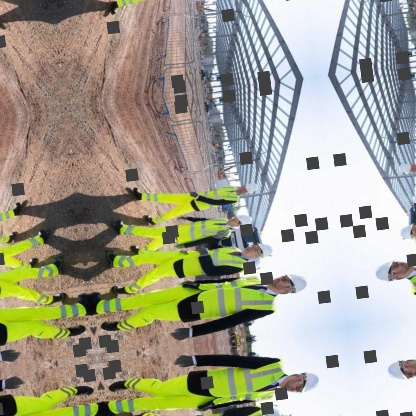vest: (189, 270, 278, 327), (180, 239, 252, 283), (169, 212, 235, 250), (188, 180, 242, 214)
white: (283, 268, 311, 297), (255, 239, 279, 260), (234, 211, 255, 230), (243, 180, 261, 196)
